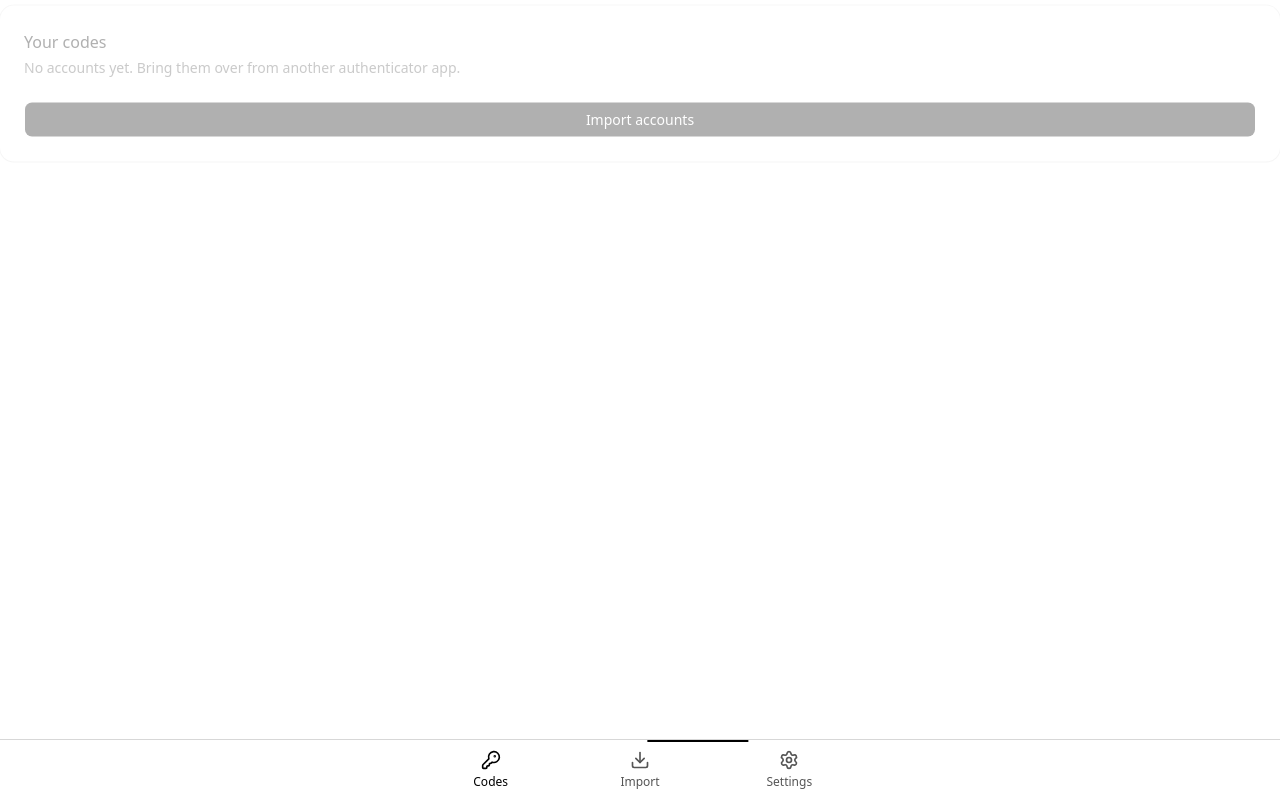
Test: UnlockedApp pages › offers to import from the empty codes page
Click the button "Import accounts" at (640, 120), box [24,102,1256,138]
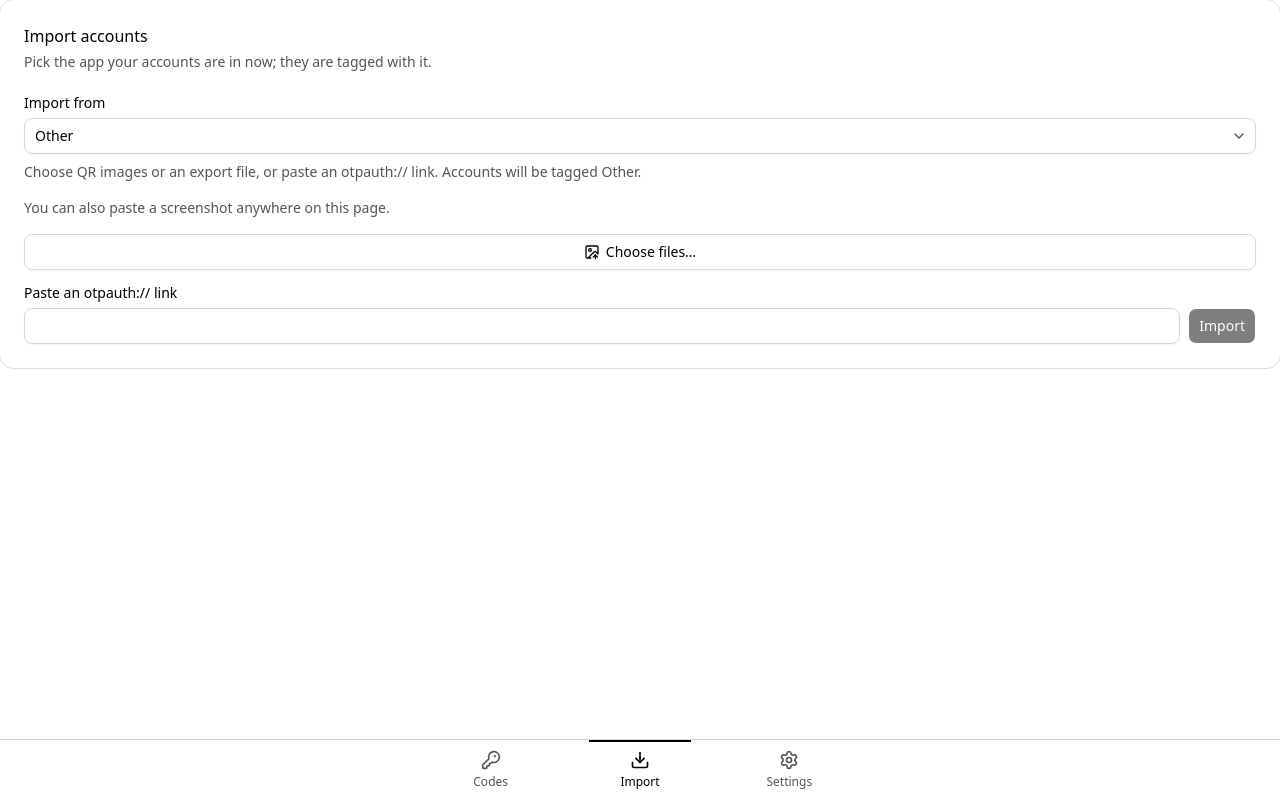
Expected: the element named "Files to import" is shown, [24,234,1256,270]
